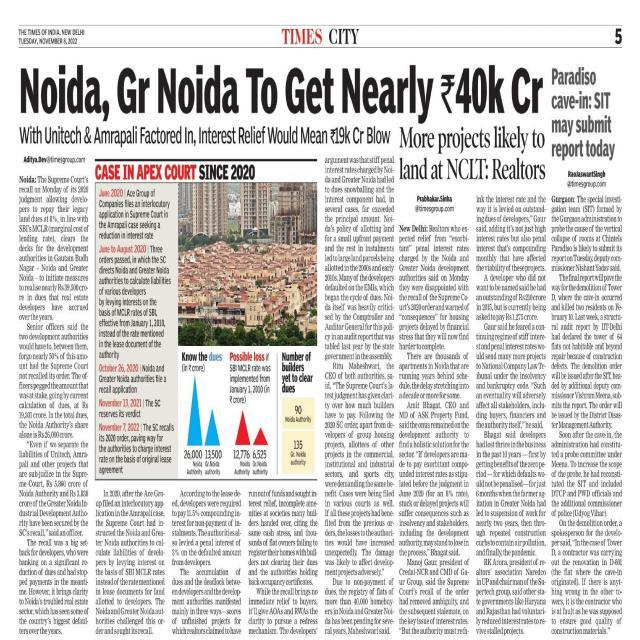Article: (14, 126, 396, 640), (397, 120, 549, 640), (550, 57, 624, 640)
Body: (324, 155, 394, 640), (18, 173, 88, 640), (551, 191, 623, 640), (477, 190, 547, 640), (400, 220, 469, 640), (170, 489, 242, 640), (248, 487, 318, 640), (95, 485, 164, 640), (98, 243, 170, 360), (96, 422, 176, 474), (99, 187, 171, 240), (98, 362, 167, 394), (98, 398, 164, 420)
Date: (18, 34, 77, 46)
Heading: (19, 62, 546, 126), (398, 125, 546, 181), (550, 62, 618, 160)
Highlights: (19, 128, 391, 149), (95, 162, 258, 180)
Image: (178, 184, 318, 344), (178, 348, 227, 478), (228, 350, 276, 477)
Name: (282, 26, 359, 47), (16, 27, 62, 35)
